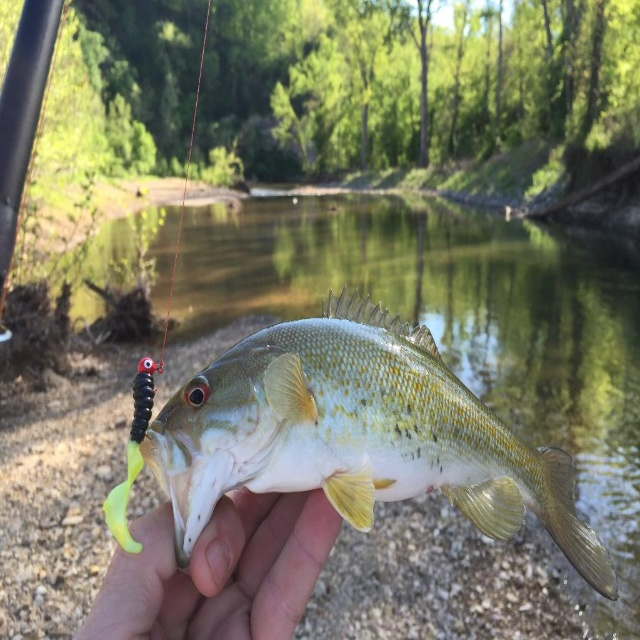Fish: (140, 284, 619, 601)
